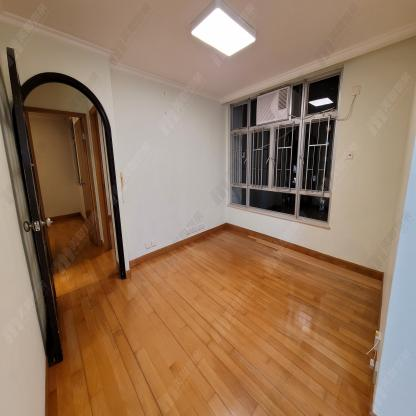AC: (256, 86, 290, 127)
